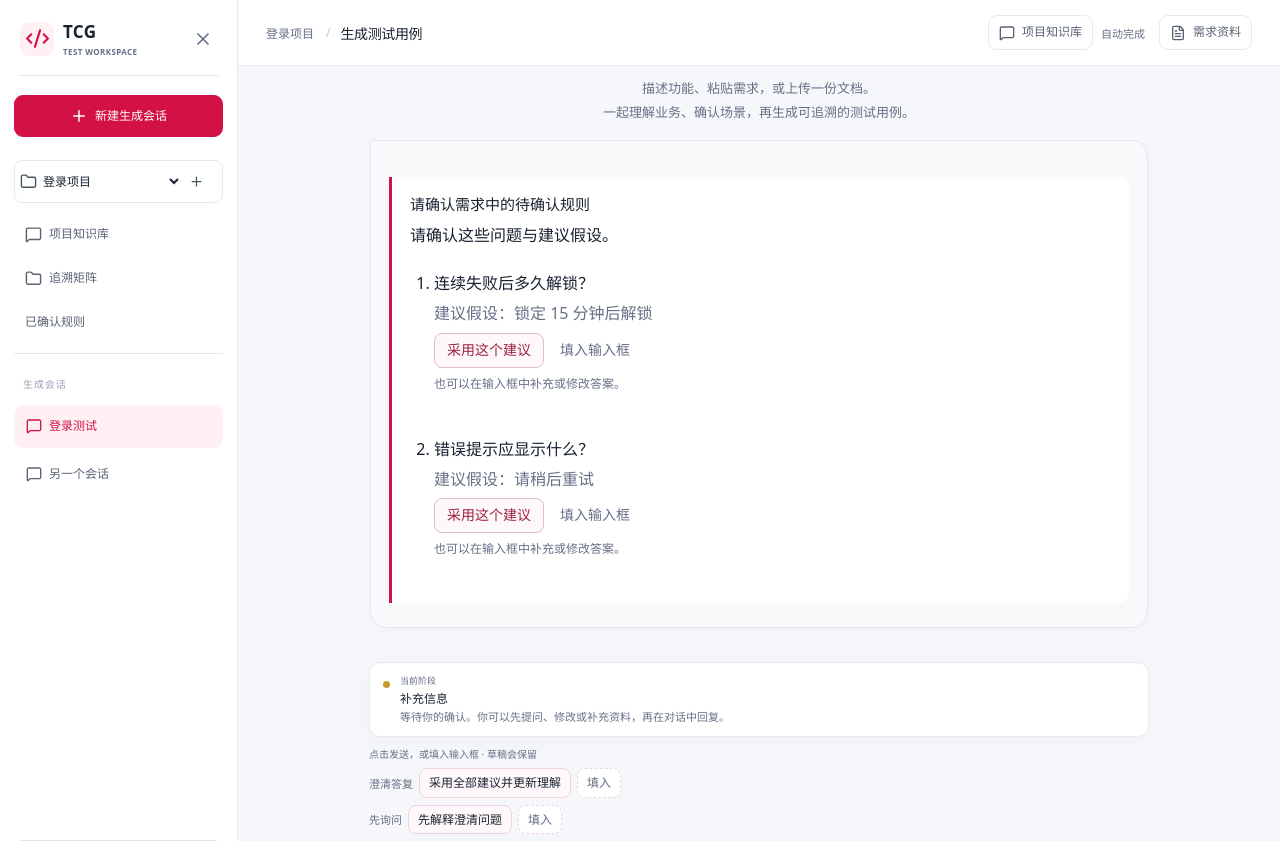
Test: adopting all clarification suggestions submits answers without approving the resulting requirements
Step 1. Click the button "采用全部建议并更新理解" → (495, 783), box 419,768 -> 571,798
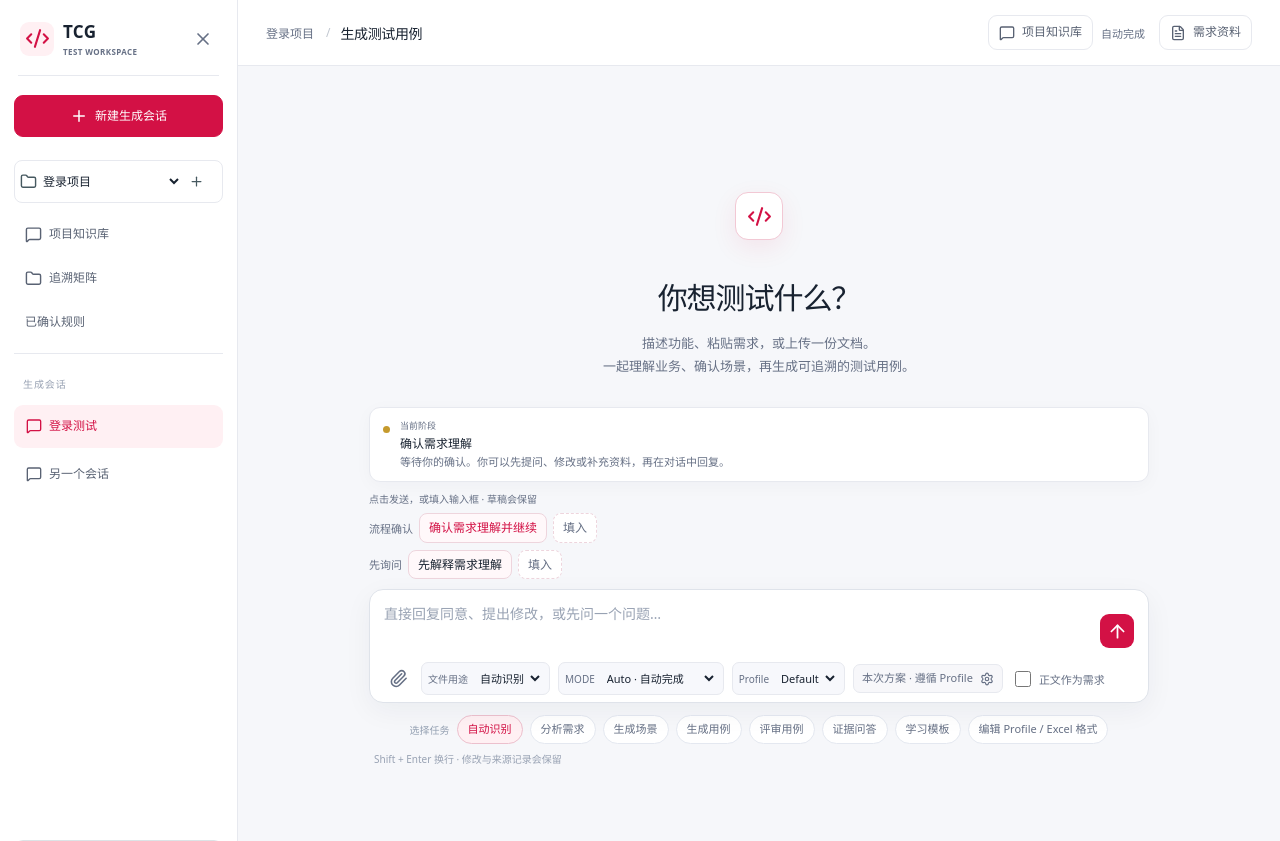
Now the button "确认需求理解并继续" is shown, box 419,513 -> 547,543
Now the text "澄清答复" is gone
Now the button "先解释需求理解" is shown, box 408,550 -> 512,579
